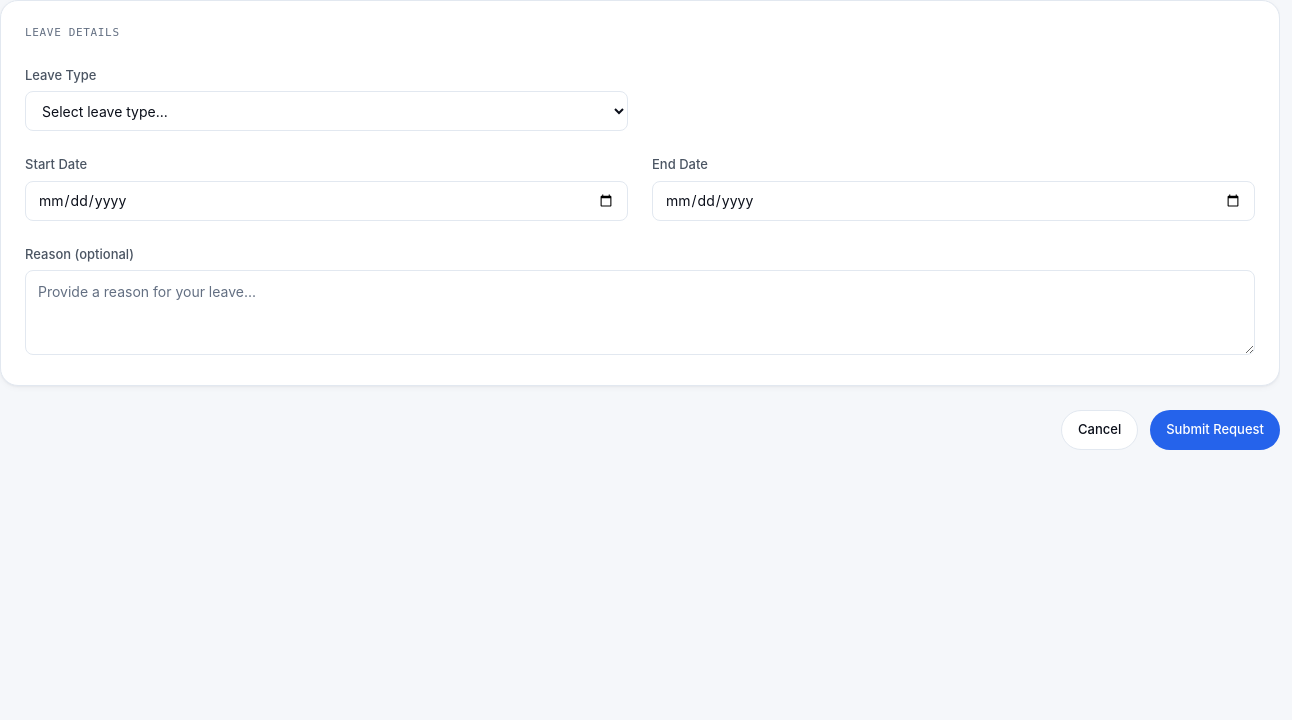
LeaveRequestForm › shows working days when both dates are set
The width and height of the screenshot is (1292, 720).
Type "2026-04-06" into the date field labelled "Start Date". click: [326, 200]
box: [25, 180, 628, 220]
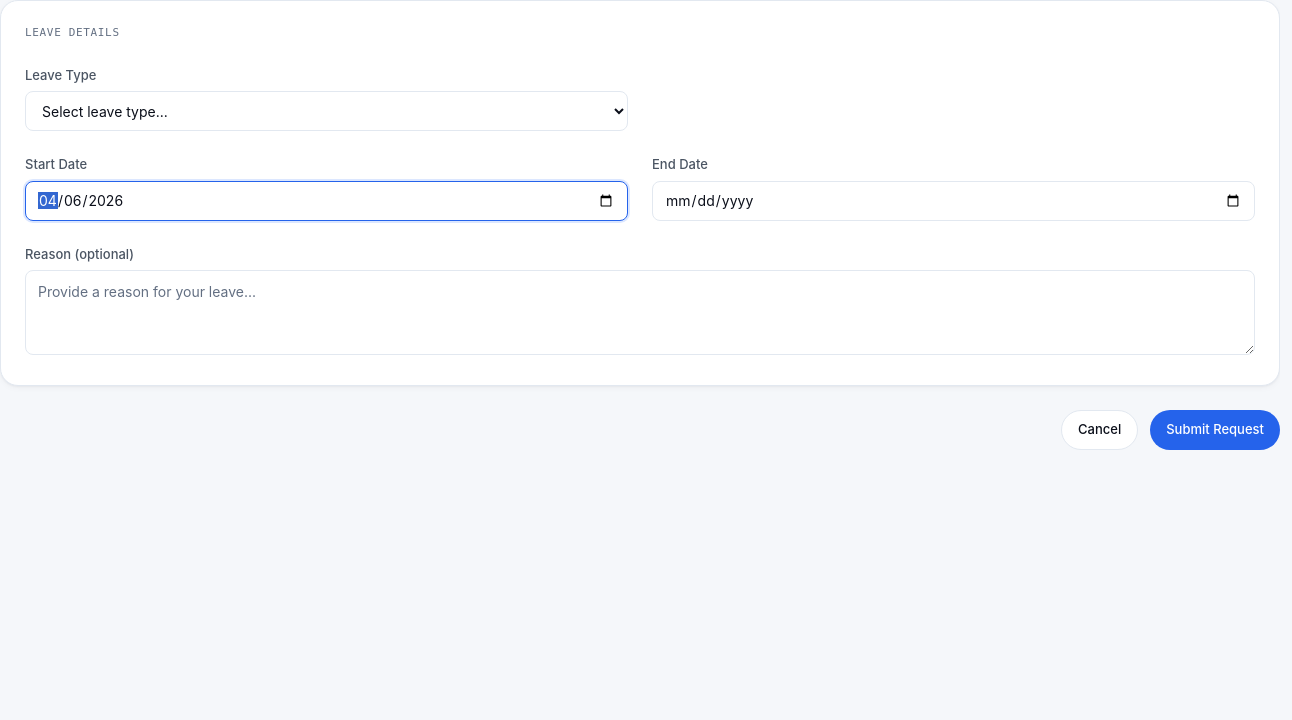
Type "2026-04-10" into the date field labelled "End Date". click: [954, 200]
box: [652, 180, 1255, 220]
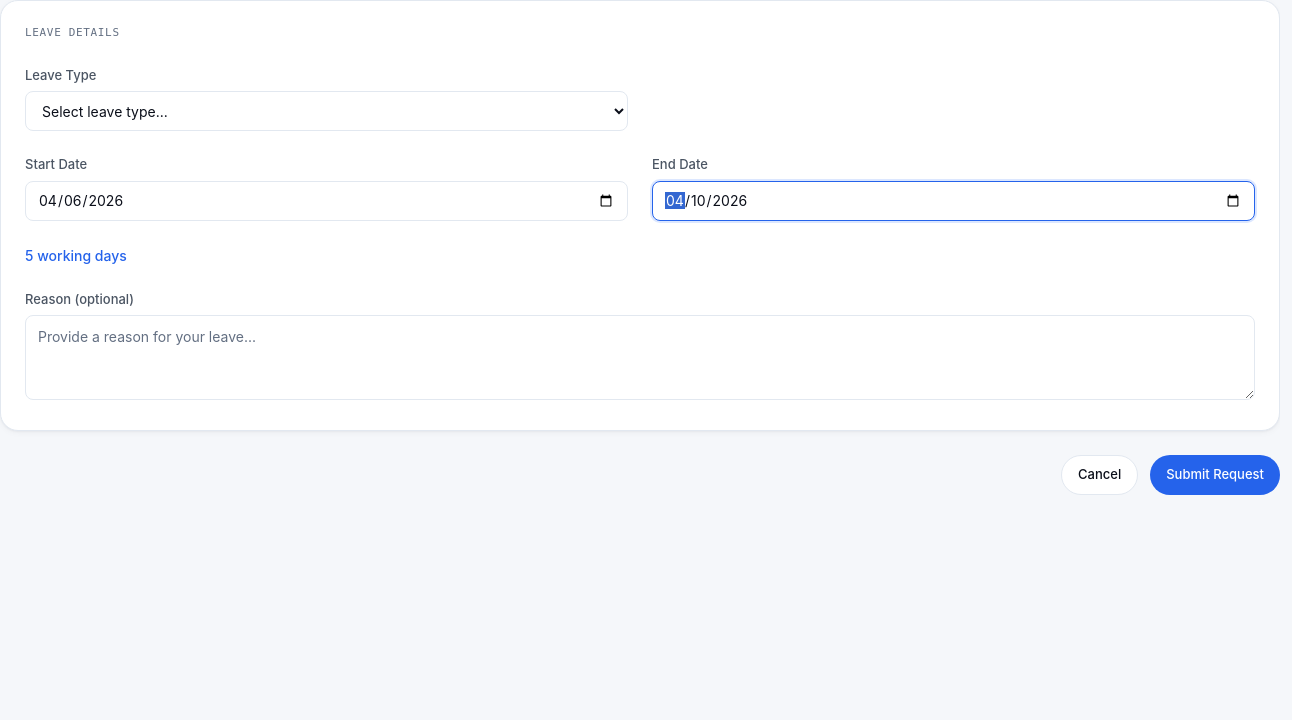
Now the text with test id "working-days" reads "5 working days", box [25, 246, 127, 264]
